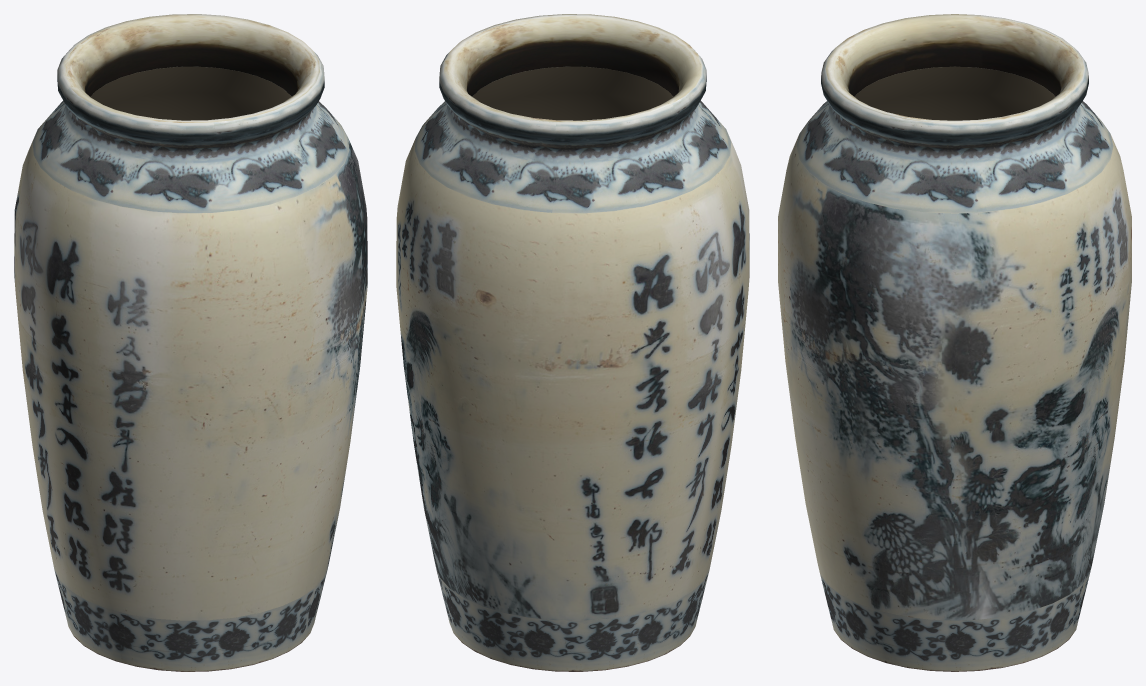
File: vase.obj
The picture shows the model from 3 angles, left to right: view 1: azimuth 30°, elevation 25°; view 2: azimuth 150°, elevation 25°; view 3: azimuth 270°, elevation 25°; orthographic projection.
Parts seen in each view (by area): view 1: 111; view 2: 111; view 3: 111.
Part boxes in pixels (left/top/right/bottom): 111: left=14, top=14, right=367, bottom=671; 111: left=396, top=14, right=749, bottom=671; 111: left=778, top=14, right=1131, bottom=671.
Bounding box in the file's own units: 18.08 × 31.09 × 18.08.
